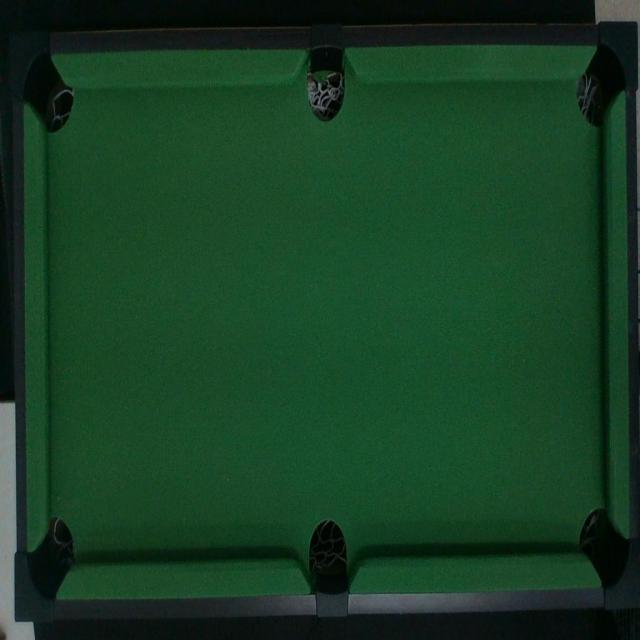pockw: (577, 21, 637, 130), (12, 30, 74, 133), (580, 508, 640, 608), (15, 520, 74, 620), (303, 24, 346, 122), (308, 519, 349, 616)
